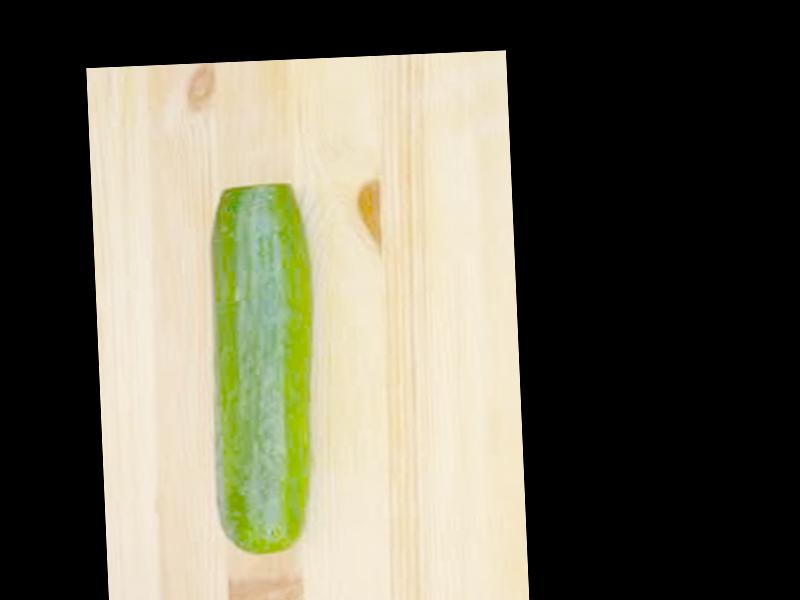Cucumber: (204, 184, 319, 556)
